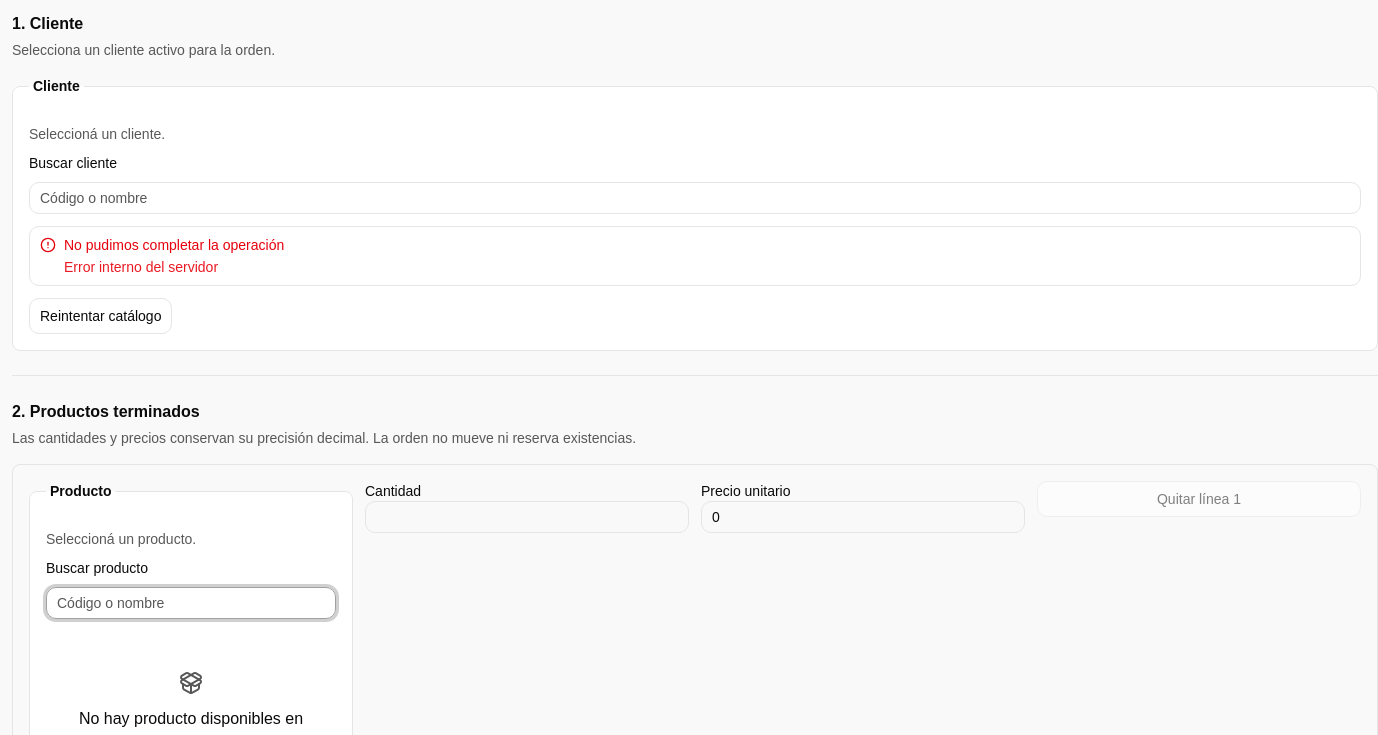
Test case: Formulario de órdenes de venta › permite reintentar un error del catálogo y cambiar el cliente elegido
This screenshot has width=1378, height=735.
Click the button "Reintentar catálogo" at (101, 316), box [29, 298, 172, 334]
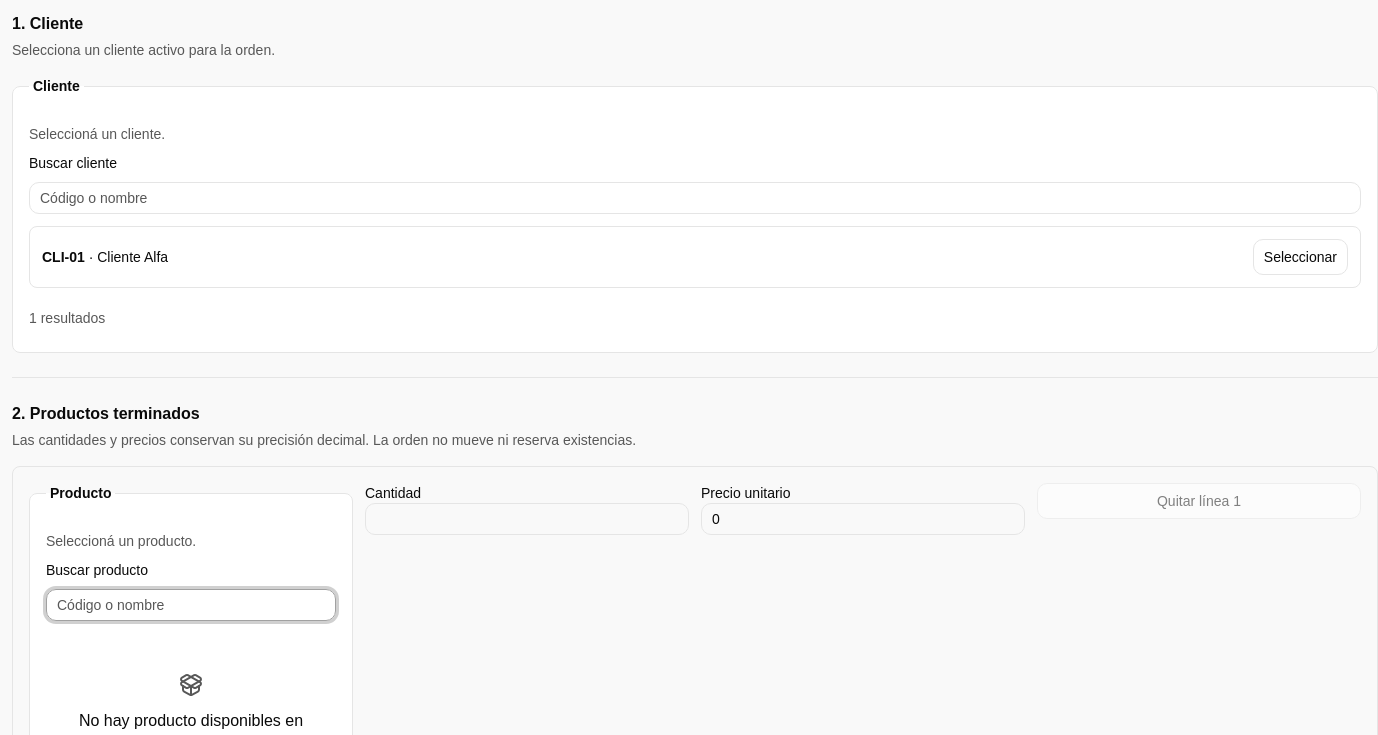
Type "CLI-01" into the search field labelled "Buscar cliente" at (695, 198), box [29, 182, 1361, 214]
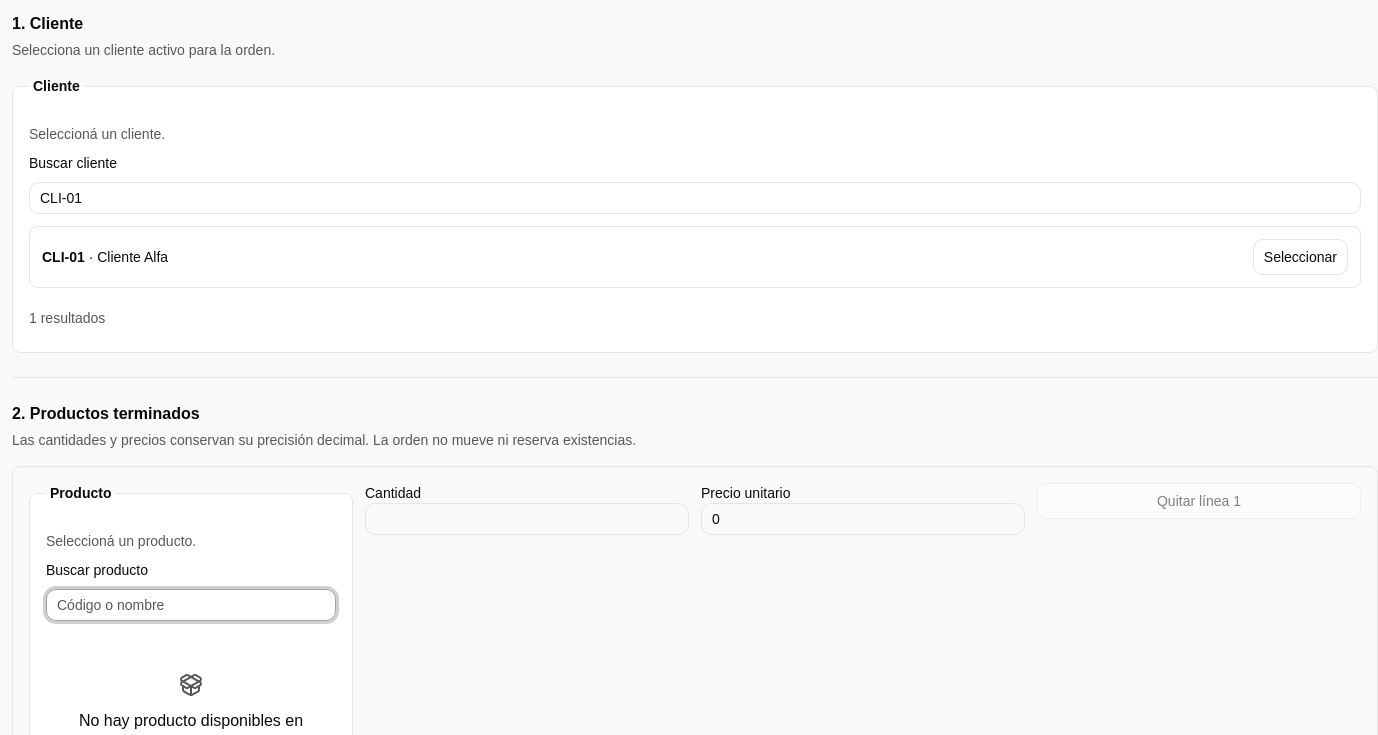
Click the button with aria-label "CLI-01 · Cliente Alfa" at (1300, 257), box [1253, 239, 1348, 275]
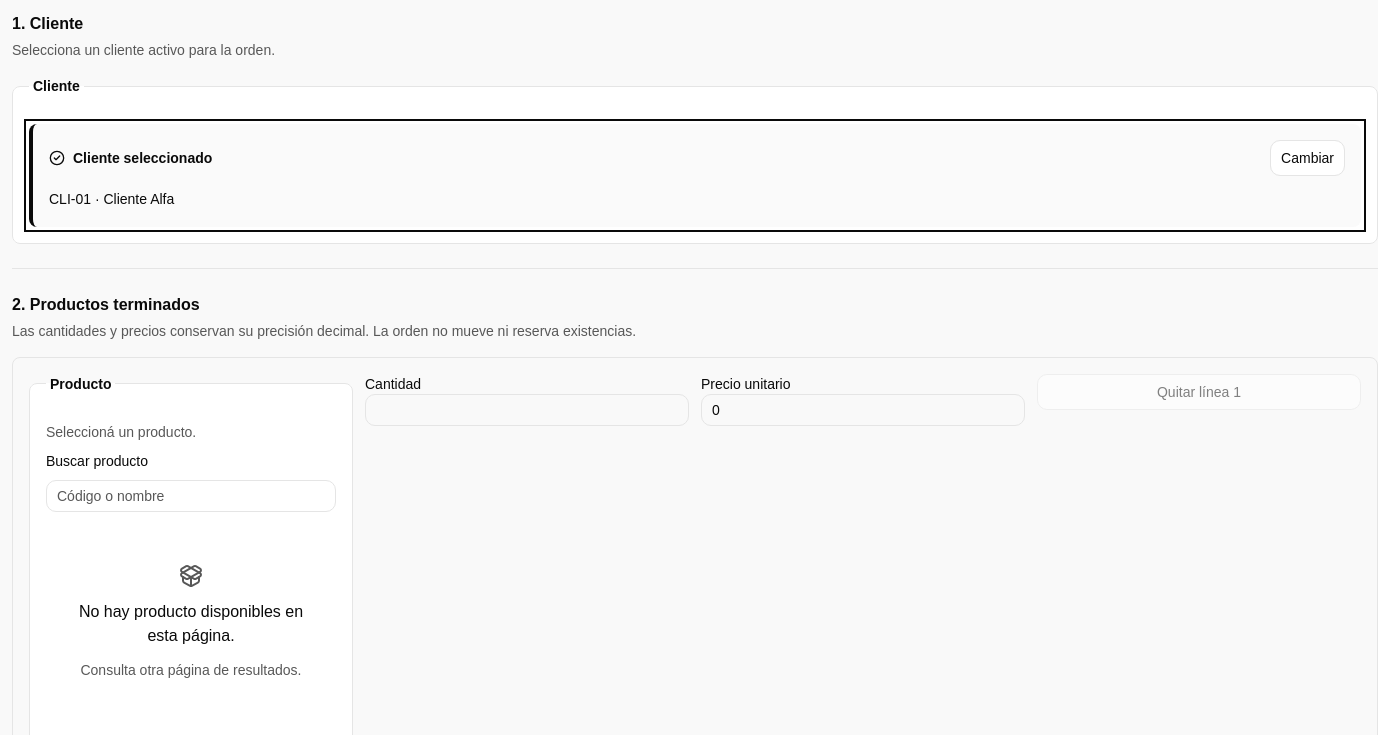
Click the button "Cambiar" at (1308, 158), box [1270, 140, 1345, 176]
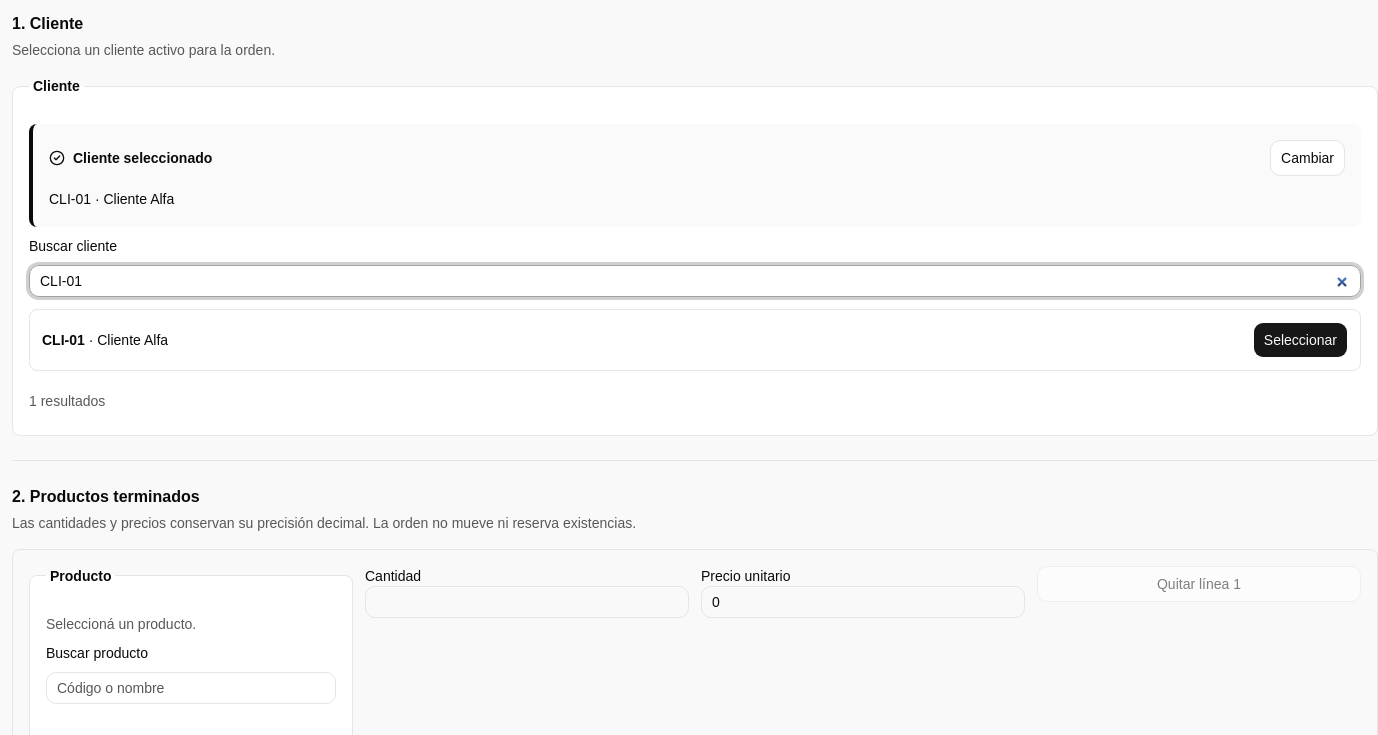
Replace the text in the search field labelled "Buscar cliente" with "CLI-02" at (695, 281), box [29, 265, 1361, 297]
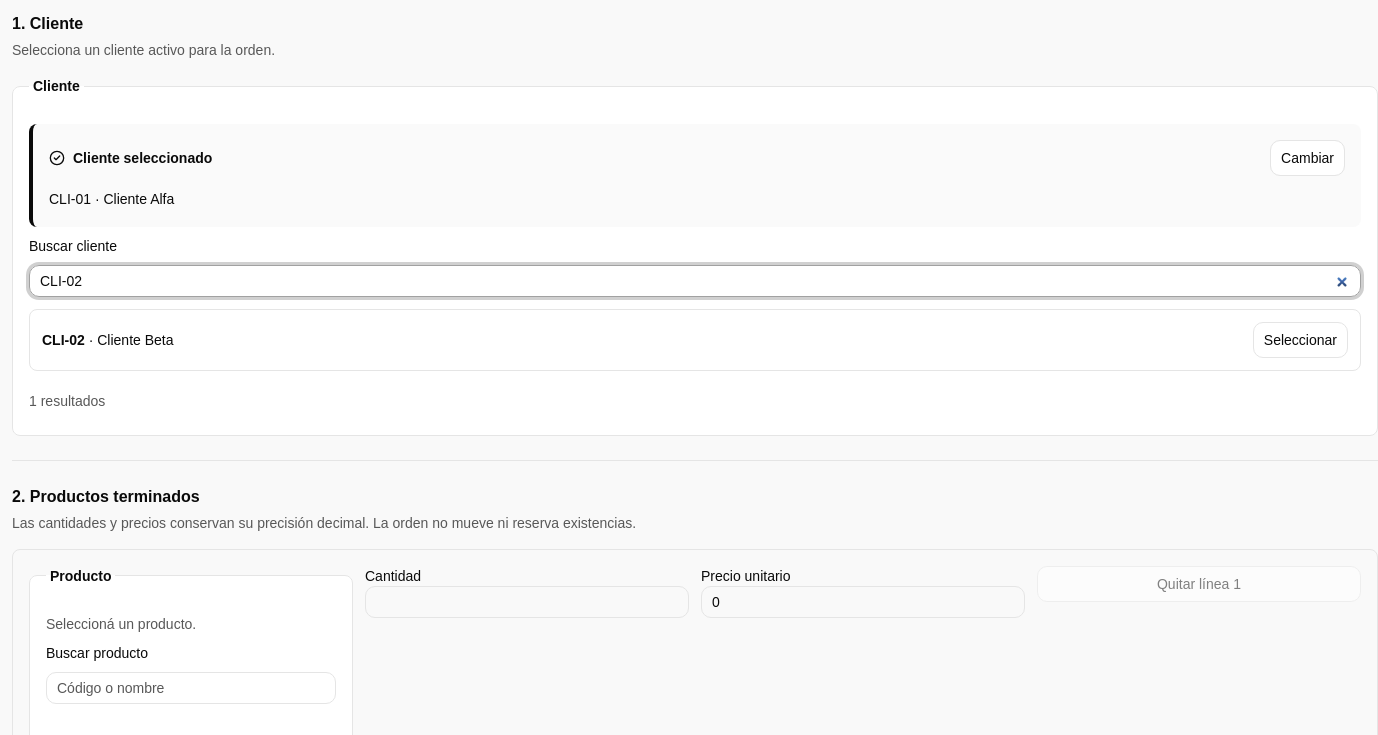
Click the button with aria-label "CLI-02 · Cliente Beta" at (1300, 340), box [1253, 322, 1348, 358]
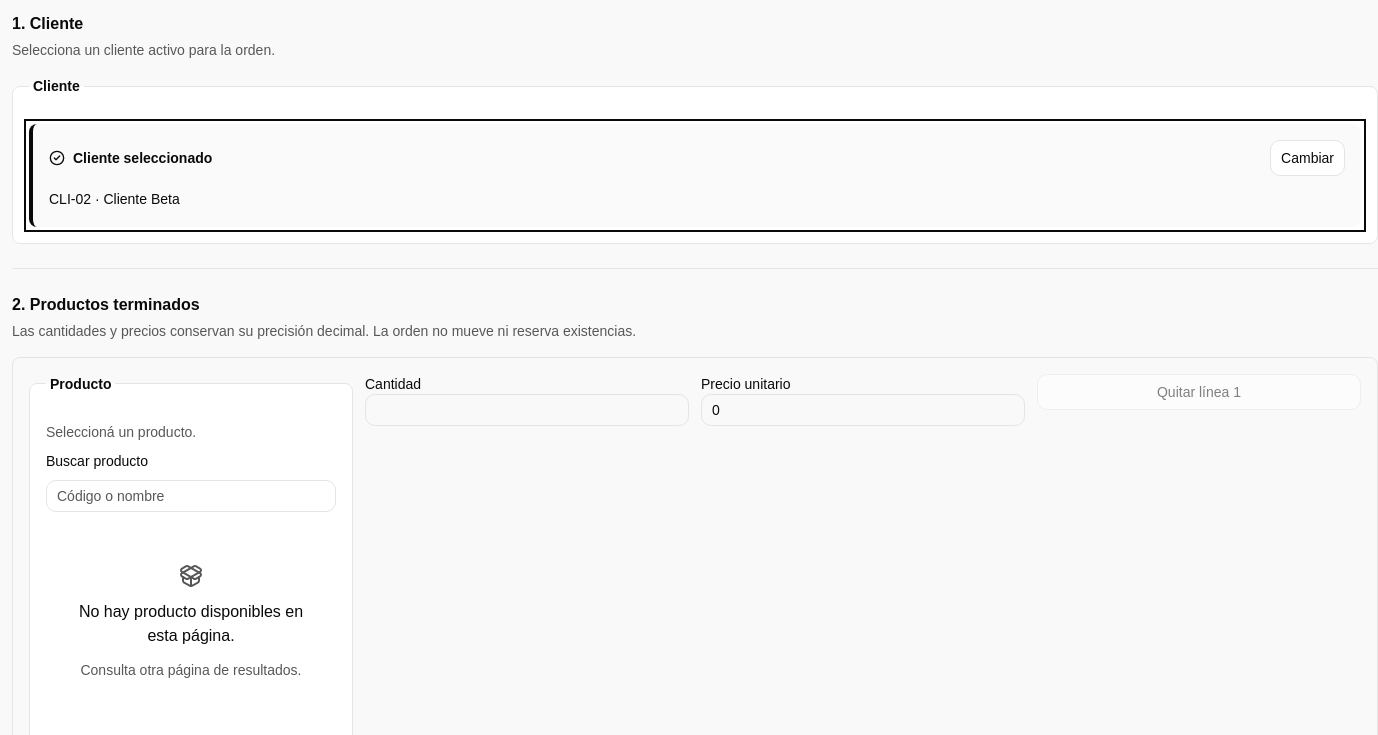
expect the text "CLI-02 · Cliente Beta" is shown: met, box [49, 191, 180, 207]
